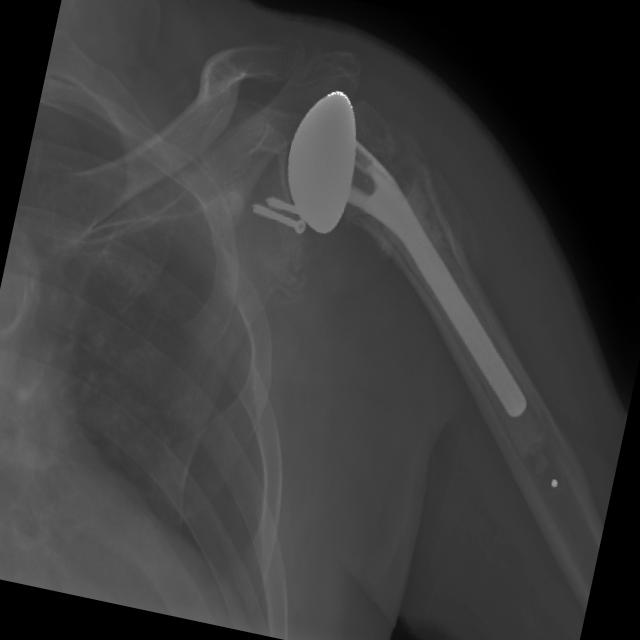shoulder fracture: (159, 30, 271, 131)
